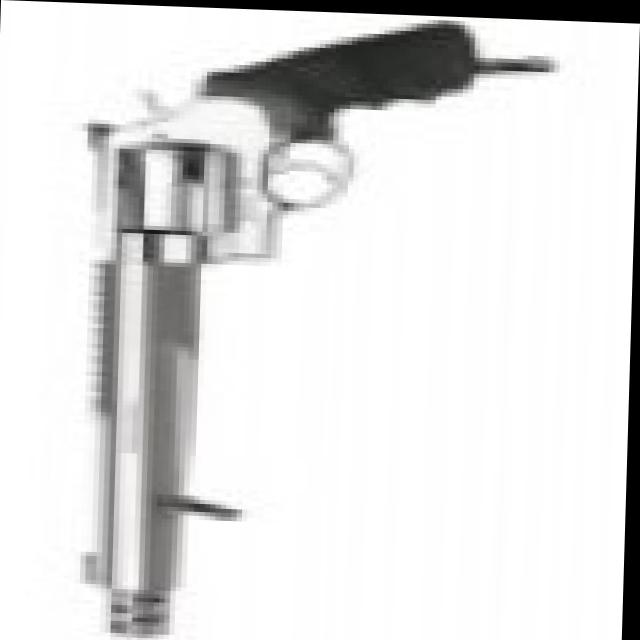handgun: (49, 6, 464, 638)
